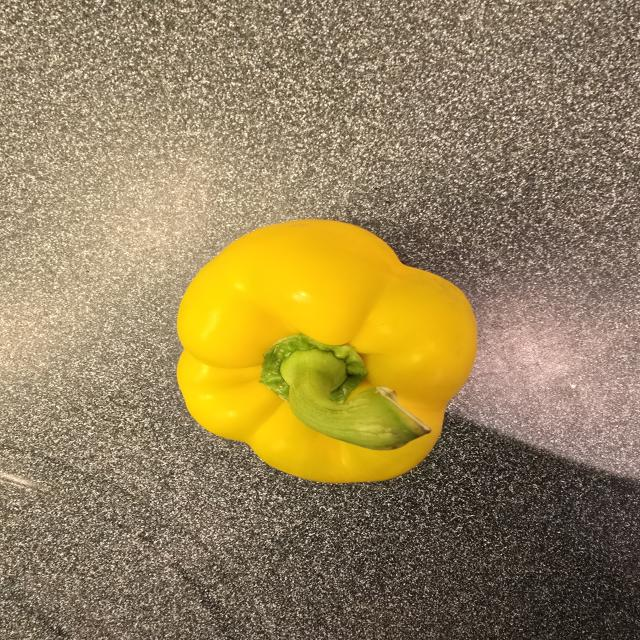Bell Pepper: (164, 206, 493, 494)
